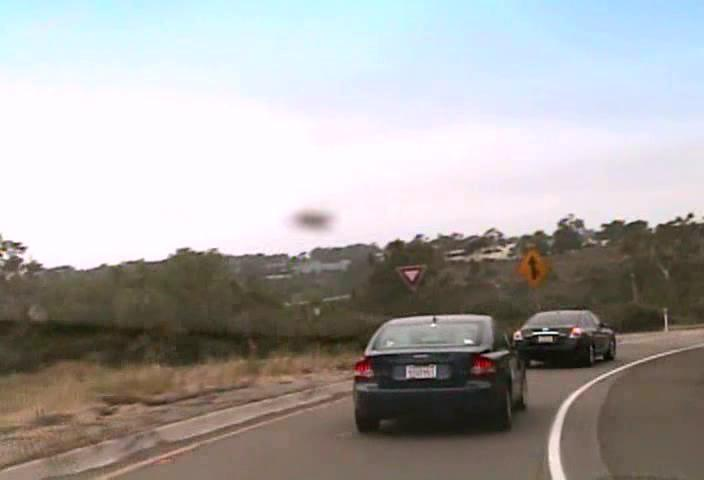merge: (514, 247, 550, 287)
